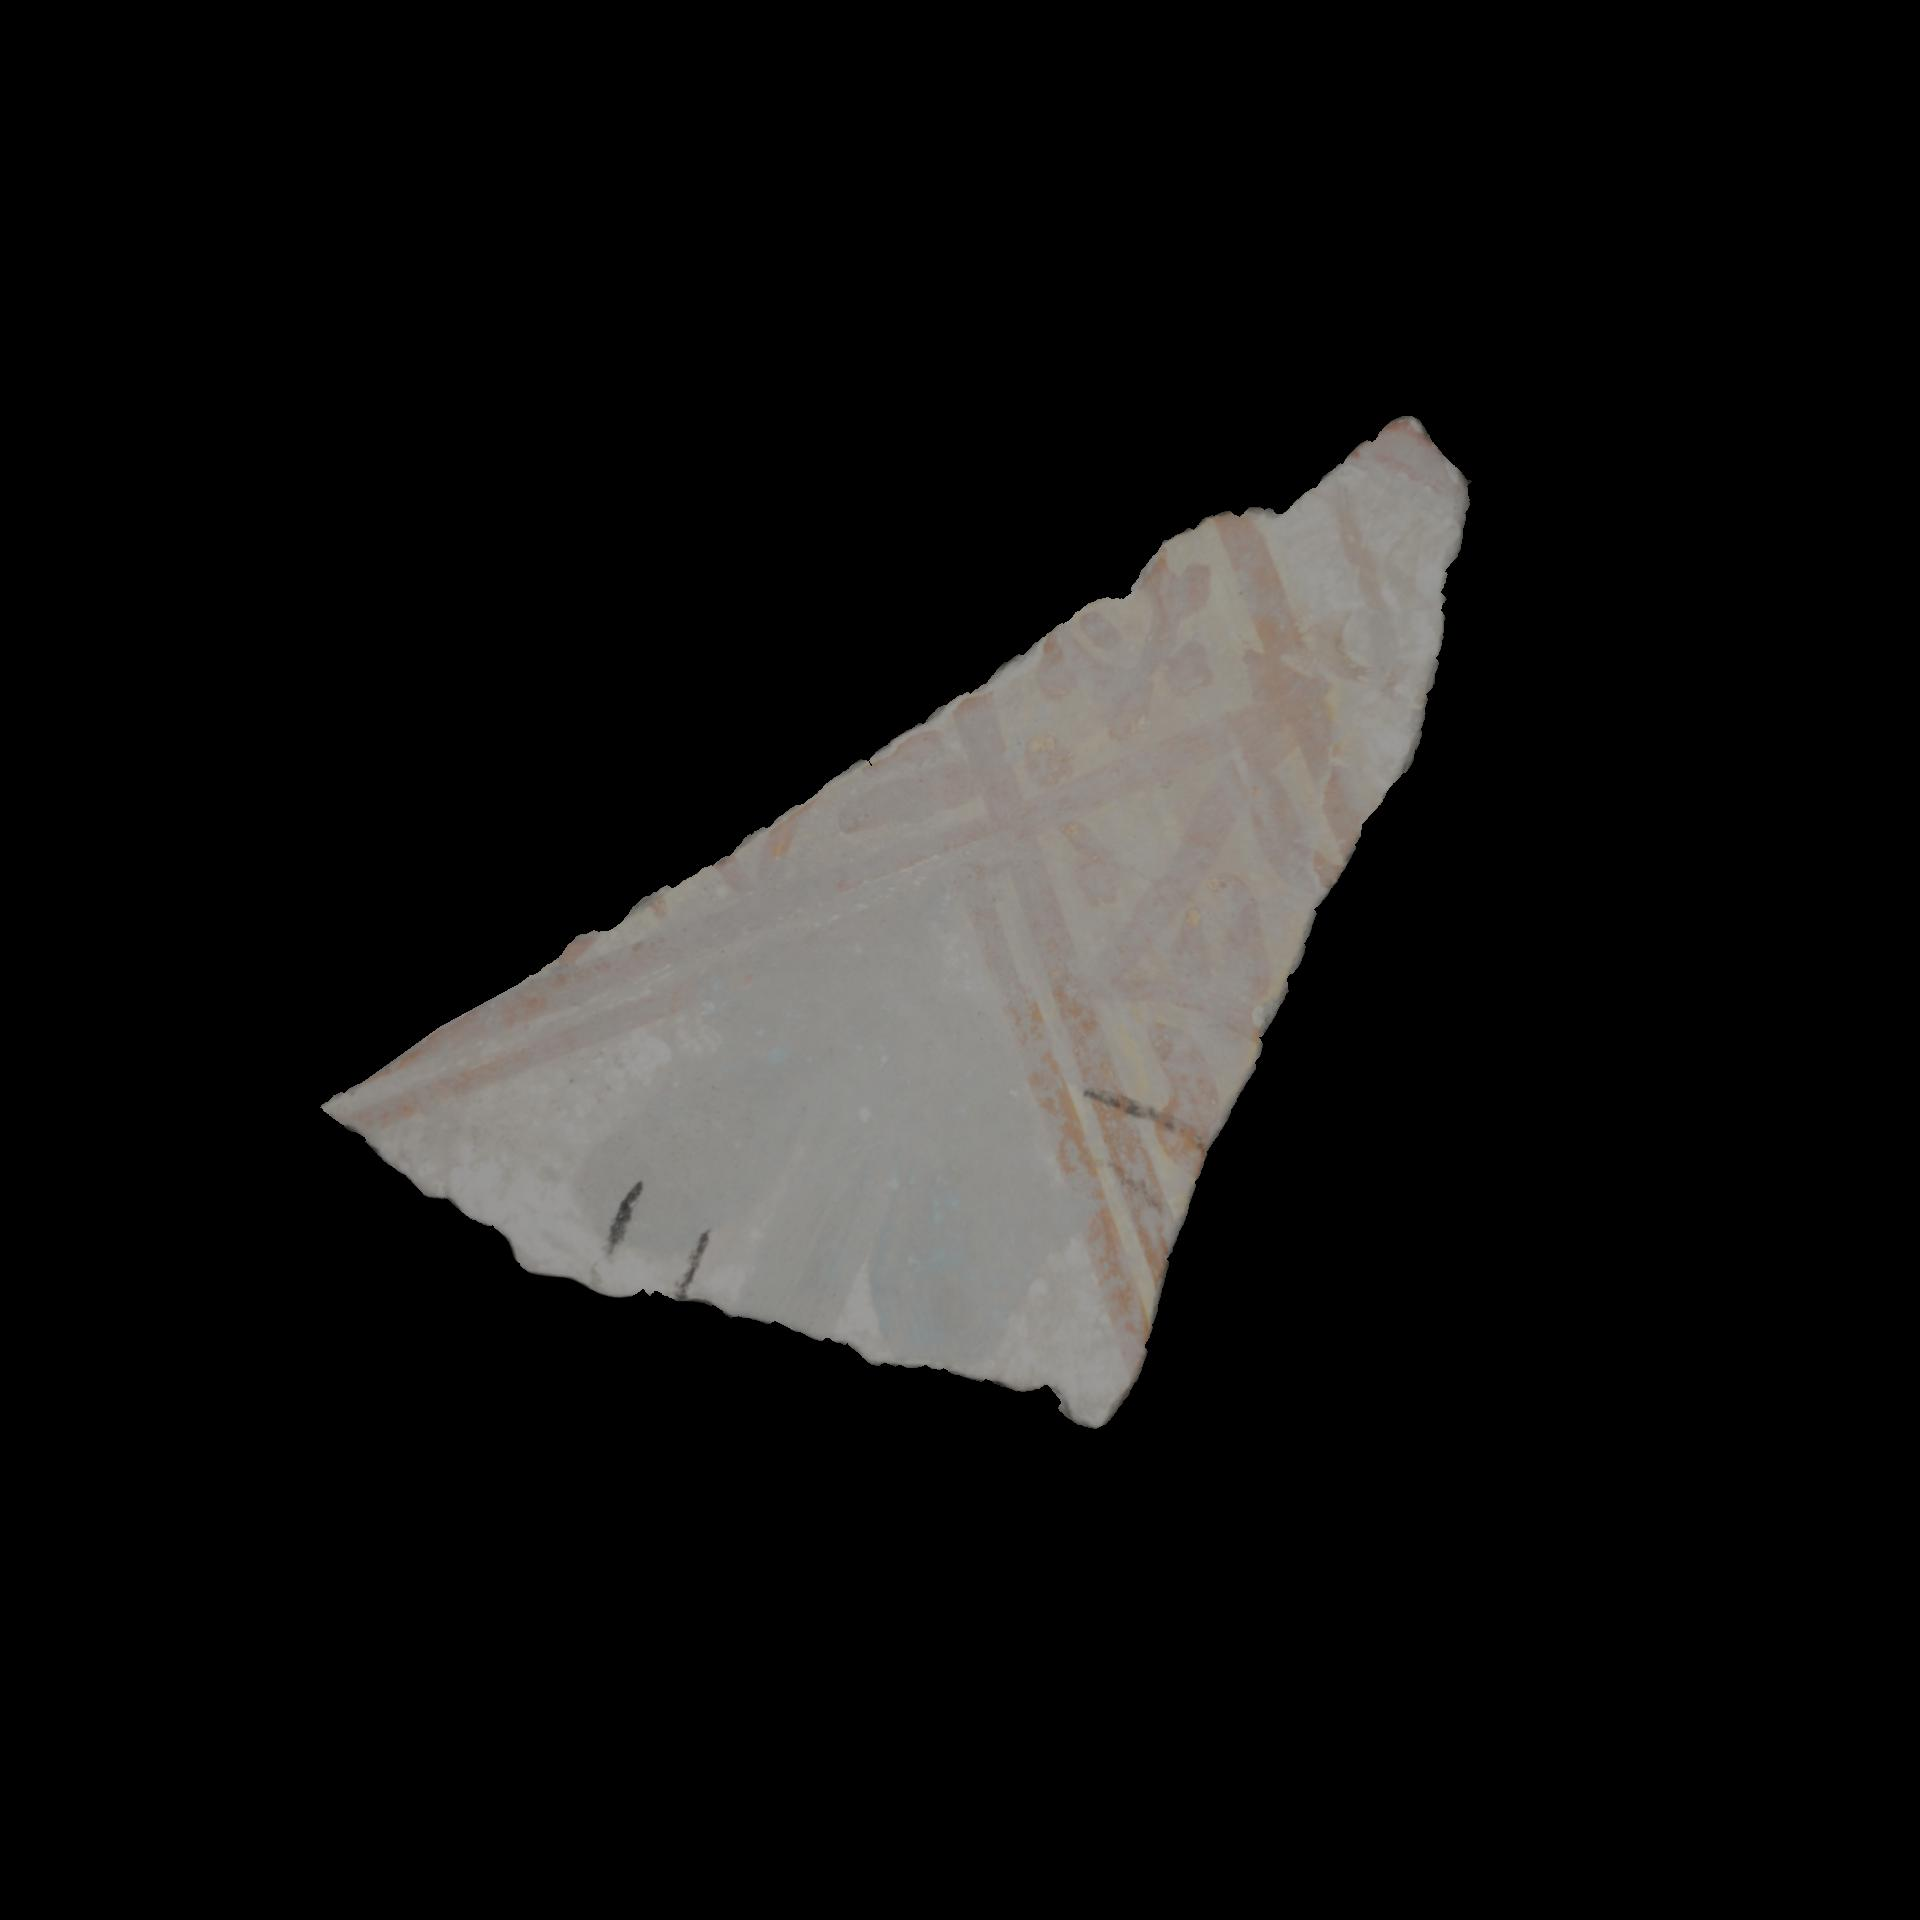black mark: (1080, 1080, 1208, 1152), (1083, 1148, 1176, 1220), (589, 1173, 644, 1285), (675, 1220, 723, 1296)
